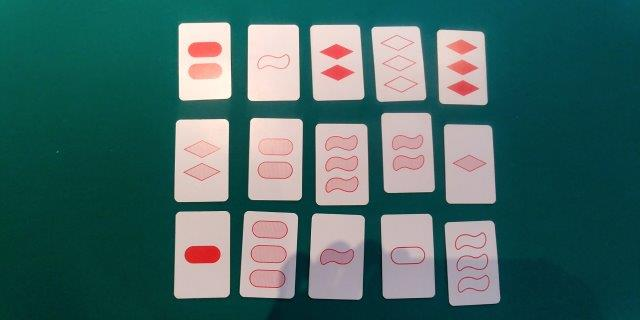1EP: (385, 217, 429, 295)
1EW: (250, 26, 295, 96)
1FP: (177, 214, 226, 293)
1HD: (447, 127, 490, 200)
1HW: (313, 216, 358, 295)
2FD: (315, 27, 358, 96)
2FP: (180, 24, 228, 95)
2HD: (177, 122, 226, 198)
2HP: (251, 119, 299, 197)
2HW: (384, 116, 429, 189)
3ED: (376, 27, 420, 98)
3EW: (449, 225, 494, 302)
3FD: (439, 29, 481, 100)
3HP: (243, 213, 293, 295)
3HW: (316, 123, 364, 202)
